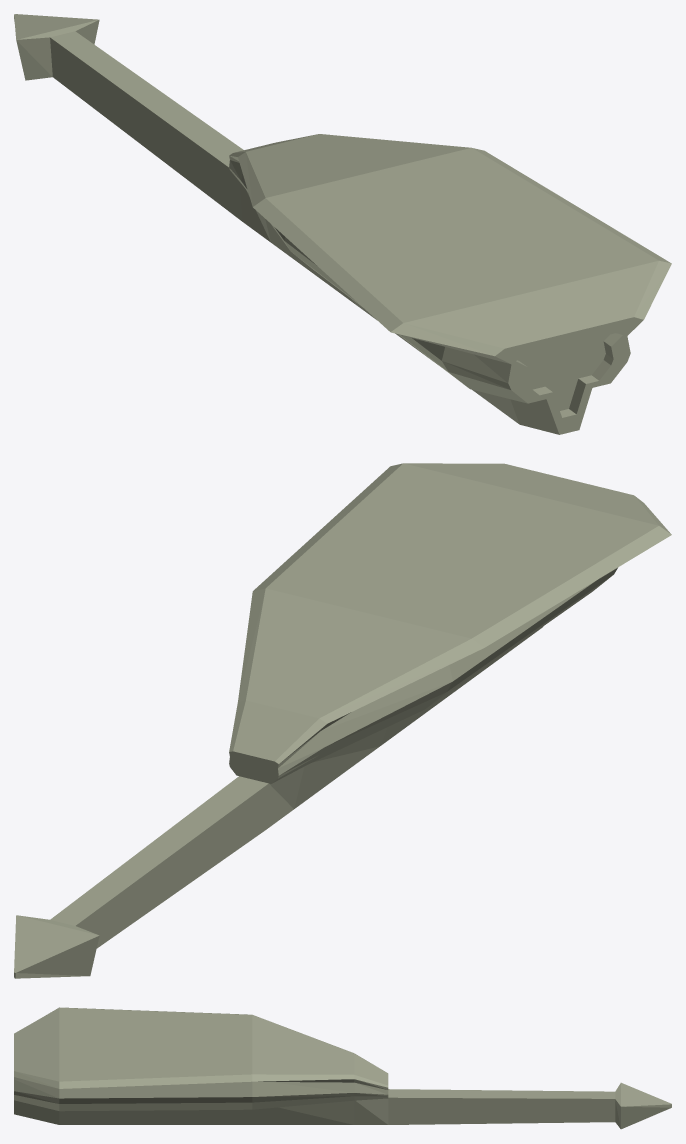
The model's file is harpoon.glb.
3 views of the same model, one above another, from view 1: azimuth 30°, elevation 25°; view 2: azimuth 150°, elevation 25°; view 3: azimuth 270°, elevation 25° (orthographic). The views are drawn at different scales.
Parts seen in each view (by area): view 1: hull; view 2: hull; view 3: hull.
Part boxes in pixels (bbox=[...]): hull: bbox=[14, 14, 671, 434]; hull: bbox=[14, 463, 671, 978]; hull: bbox=[14, 1007, 671, 1129].
Bounding box in the file's own units: 34 × 15 × 116.
